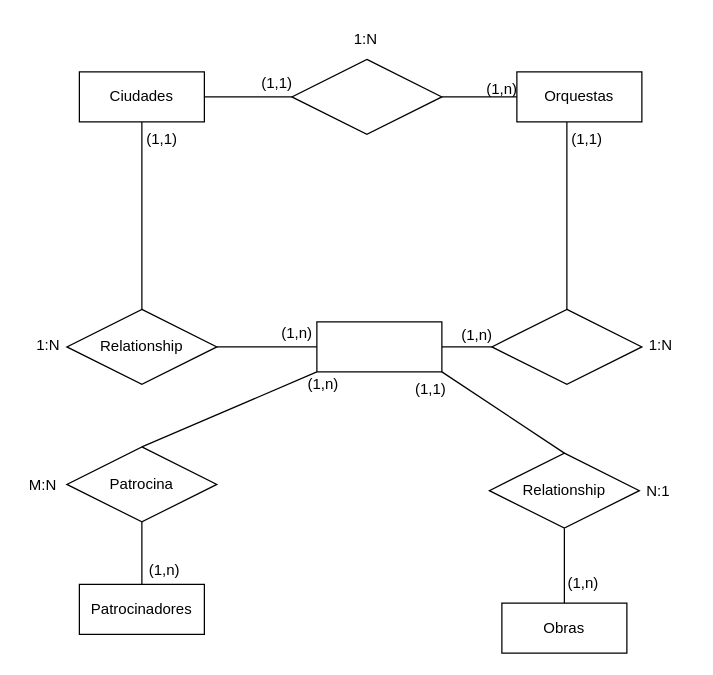
This 713x675 diagram has some shape labels left out. Here are the shapes that lost their labels. From the top down, the centre of each, then its label:
point (366, 96): Reside
point (379, 346): Conciertos
point (566, 346): muchos
